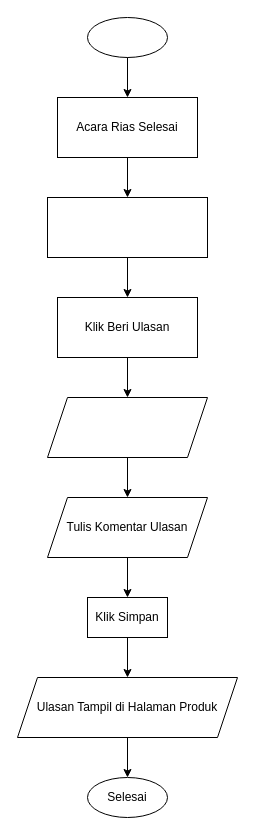
Image size: 255x835. Some labels were removed from this diagram. Here are the shapes that lost their labels. From the top down, the centre of each, then its label:
At pixel 127 37: "Mulai".
At pixel 127 227: "Buka Riwayat Pemesanan".
At pixel 127 427: "Input Rating (1-5 Bintang)".
